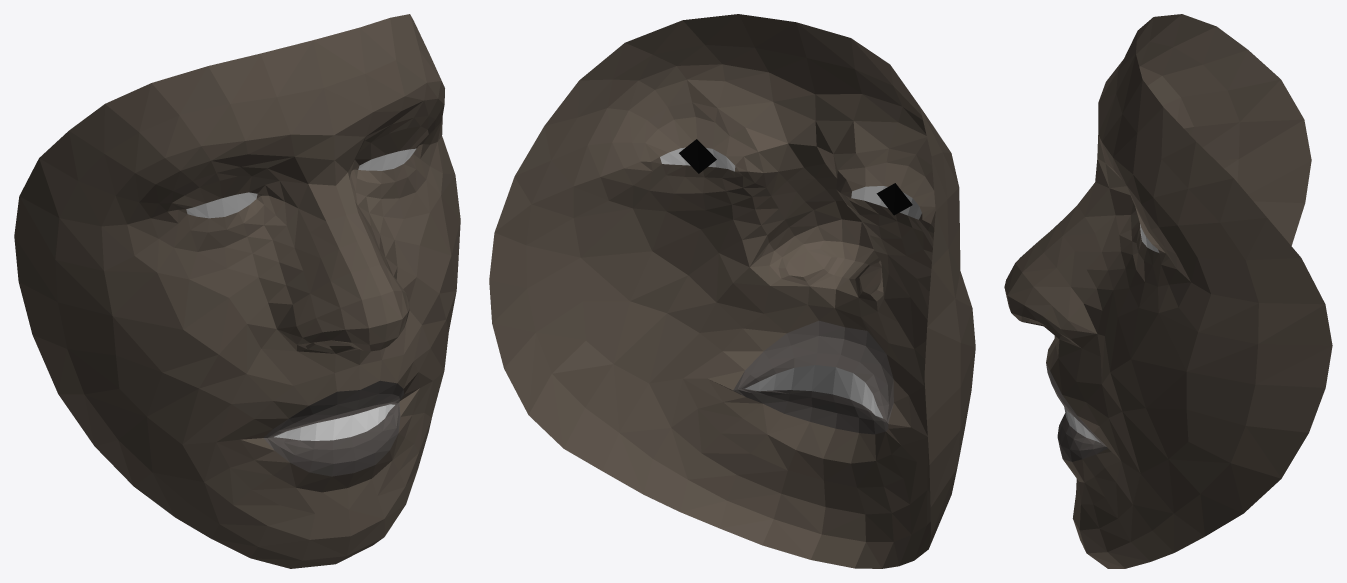
The model's file is crying2.obj.
3 renders of one model, left to right at view 1: azimuth 30°, elevation 25°; view 2: azimuth 150°, elevation 25°; view 3: azimuth 270°, elevation 25°, orthographic. The views are drawn at different scales.
Parts seen in each view (by area): view 1: face_model_with_iris; view 2: face_model_with_iris; view 3: face_model_with_iris.
Part boxes in pixels (x1,y1,x2,y2): face_model_with_iris: [14, 14, 460, 568]; face_model_with_iris: [489, 14, 975, 568]; face_model_with_iris: [1004, 14, 1332, 568].
Size of the model in its own units: 0.8039 by 0.9917 by 0.5906.
